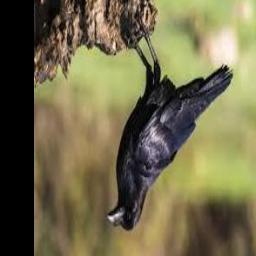Crow: (105, 18, 233, 232)
